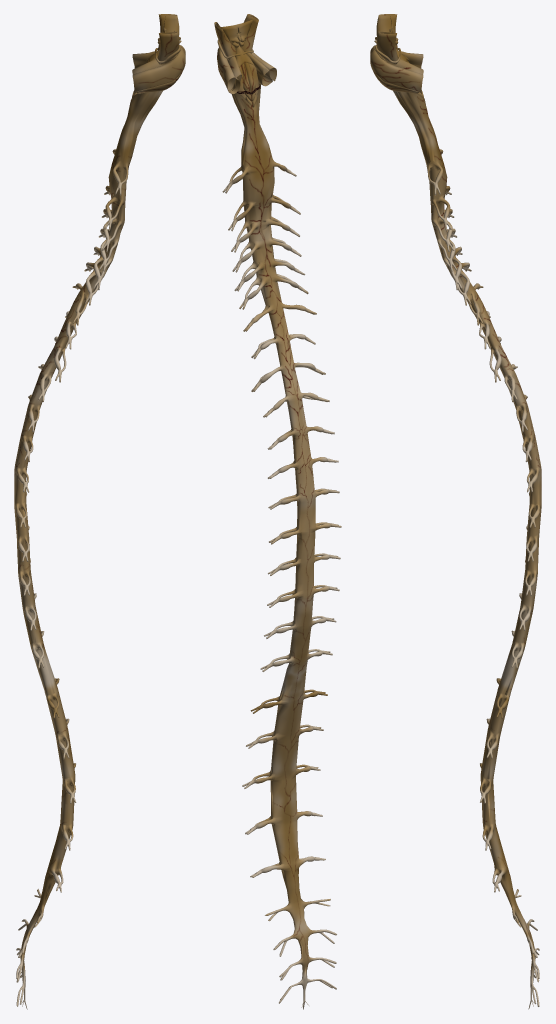
The model's file is SpinalCord.FBX.
3 views of the same model, side by side, from view 1: azimuth 90°, elevation 25°; view 2: azimuth 210°, elevation 25°; view 3: azimuth 270°, elevation 25° (orthographic). The views are drawn at different scales.
Visible parts, largest first — view 1: SpinalCord; view 2: SpinalCord; view 3: SpinalCord.
Boxes of the visible parts, bbox=[...] form: SpinalCord: bbox=[14, 14, 185, 1009]; SpinalCord: bbox=[214, 14, 341, 1009]; SpinalCord: bbox=[370, 14, 541, 1009].
Size of the model in its own units: 58.38 by 108 by 688.
